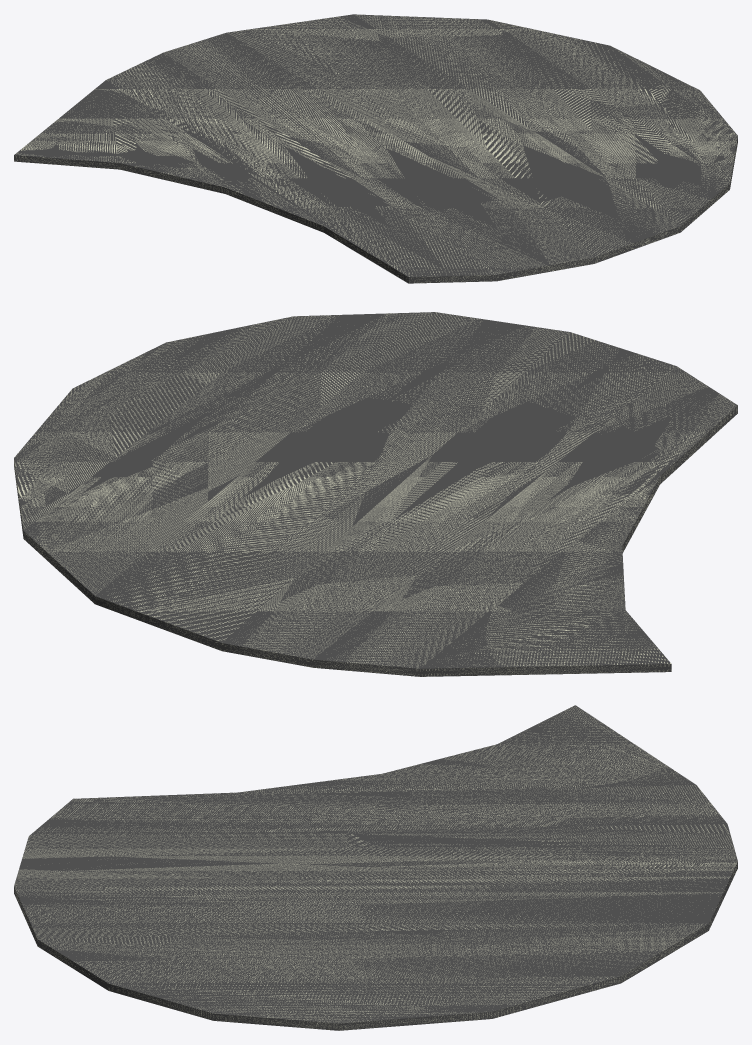
Rendered from original-7.obj.
3 renders of one model, top to bottom at view 1: azimuth 30°, elevation 25°; view 2: azimuth 150°, elevation 25°; view 3: azimuth 270°, elevation 25°, orthographic. The views are drawn at different scales.
Parts seen in each view (by area): view 1: mesh5/mesh5-geometry#mesh5-geometry; view 2: mesh5/mesh5-geometry#mesh5-geometry; view 3: mesh5/mesh5-geometry#mesh5-geometry.
Part boxes in pixels (left/top/right/bottom): mesh5/mesh5-geometry#mesh5-geometry: left=14, top=14, right=737, bottom=283; mesh5/mesh5-geometry#mesh5-geometry: left=14, top=312, right=737, bottom=676; mesh5/mesh5-geometry#mesh5-geometry: left=14, top=705, right=737, bottom=1030.
Bounding box in the file's own units: 0.0616 × 0.000658 × 0.0592.
